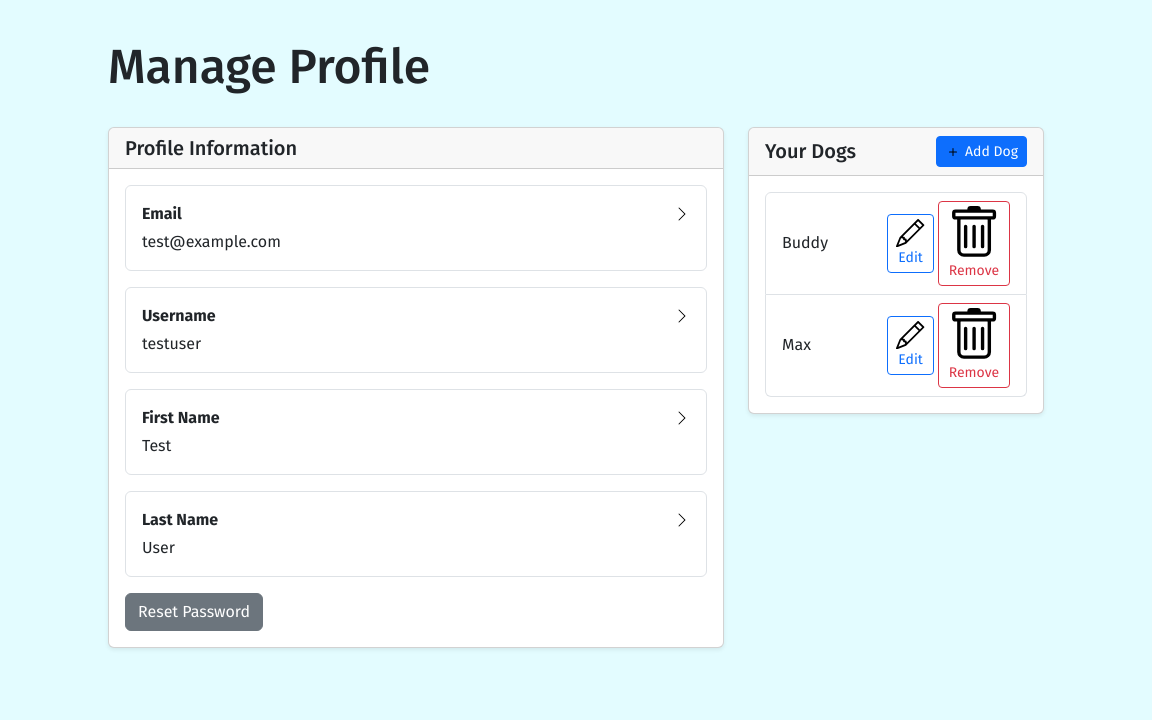
it: ManageProfile Component › handles editing an existing dog
Expected: the list item "Buddy" is shown, [782,233,828,252]
# Find and click the edit button for Buddy
Click the button "Edit" next to "Buddy" at (911, 243), box [888,214,934,273]
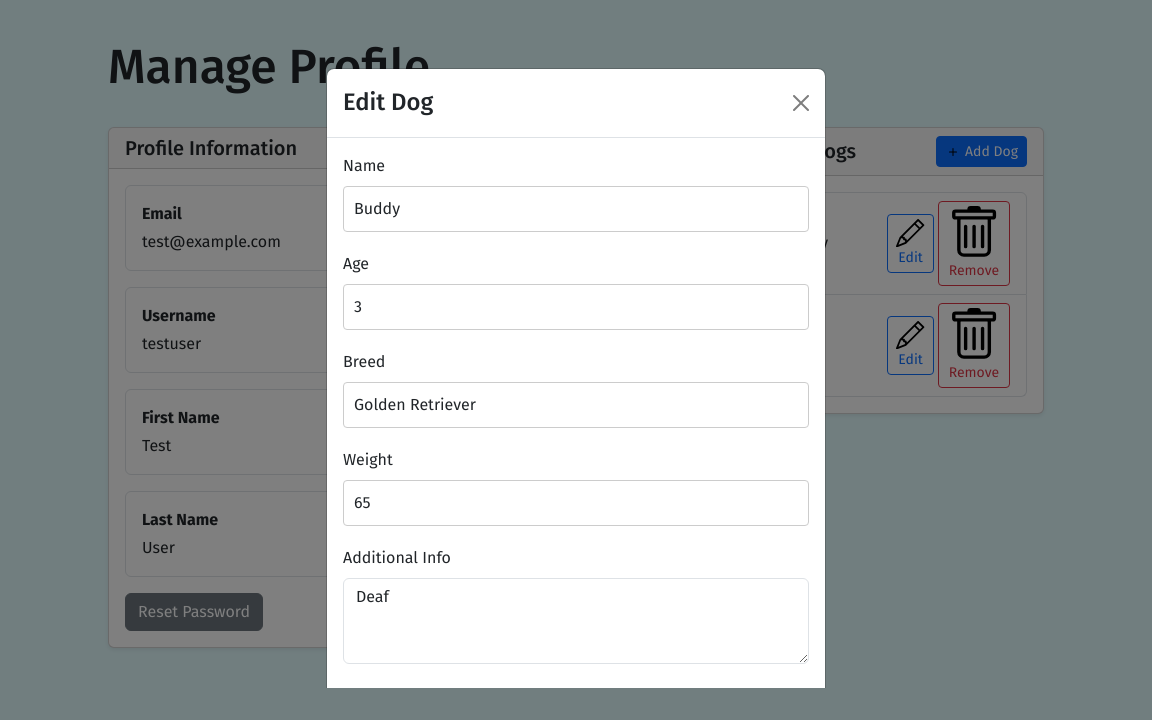
Expected: the text "Edit Dog" is shown, [343,85,433,121]
Expected: the field labelled "Name" holds "Buddy"
Replace the text in the field labelled "Name" with "Buddy Jr." at (576, 209), box [343,186,809,232]
(page scrolled)
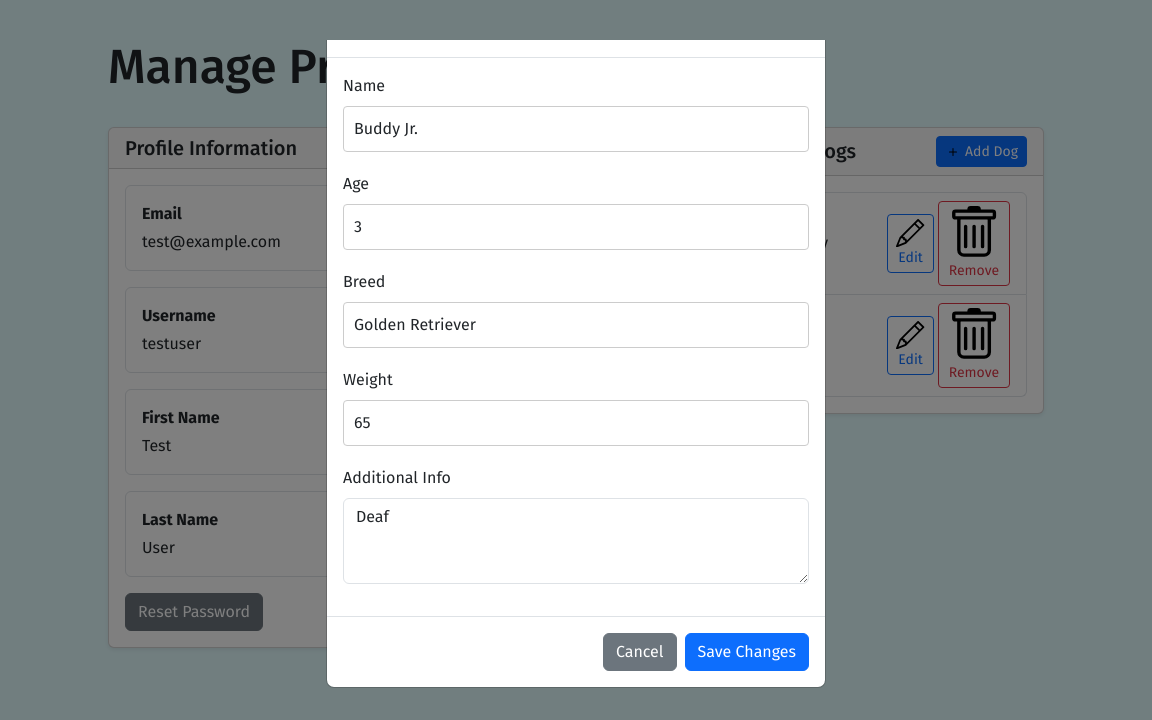
# Save changes
Click the button "Save Changes" at (747, 652), box [684,633,809,671]
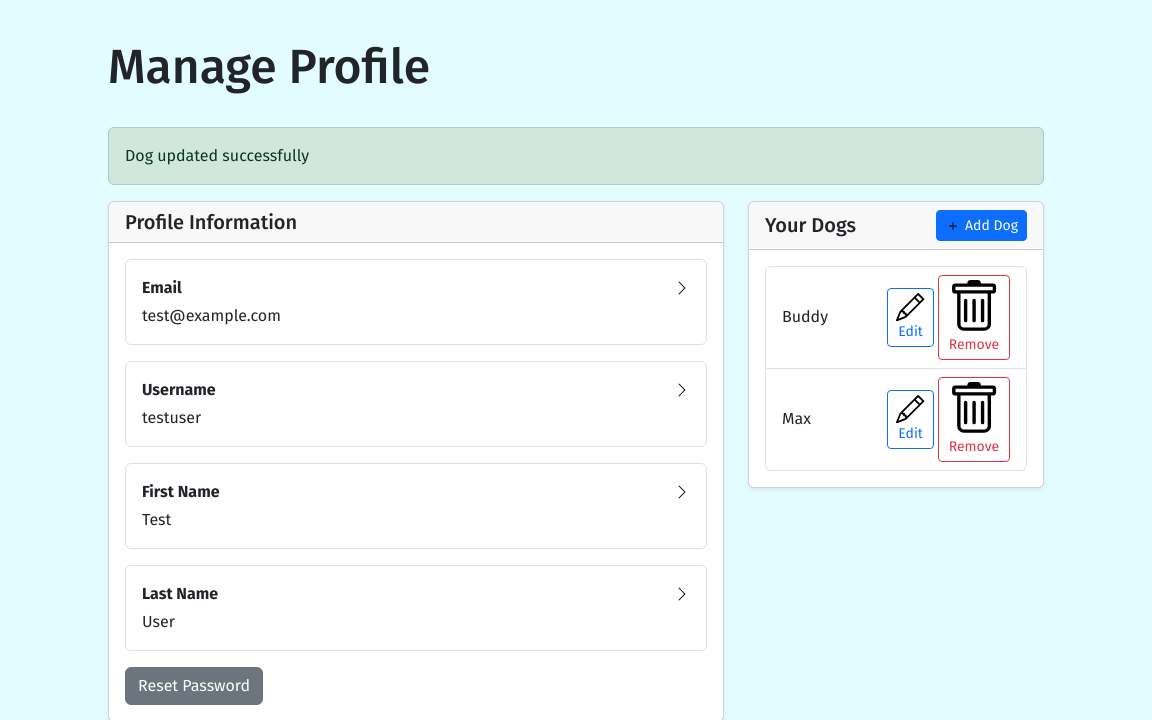
Expected: the text "Dog updated successfully" is shown, [108,127,1044,185]
